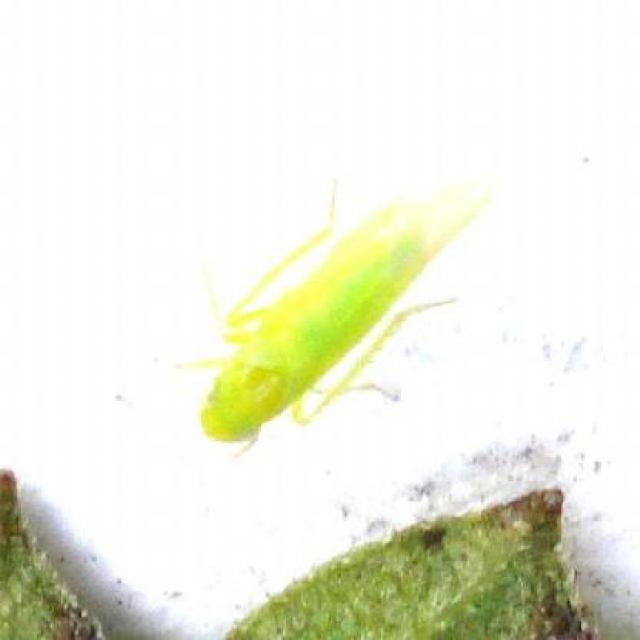green-leafhopper: (193, 180, 476, 458)
